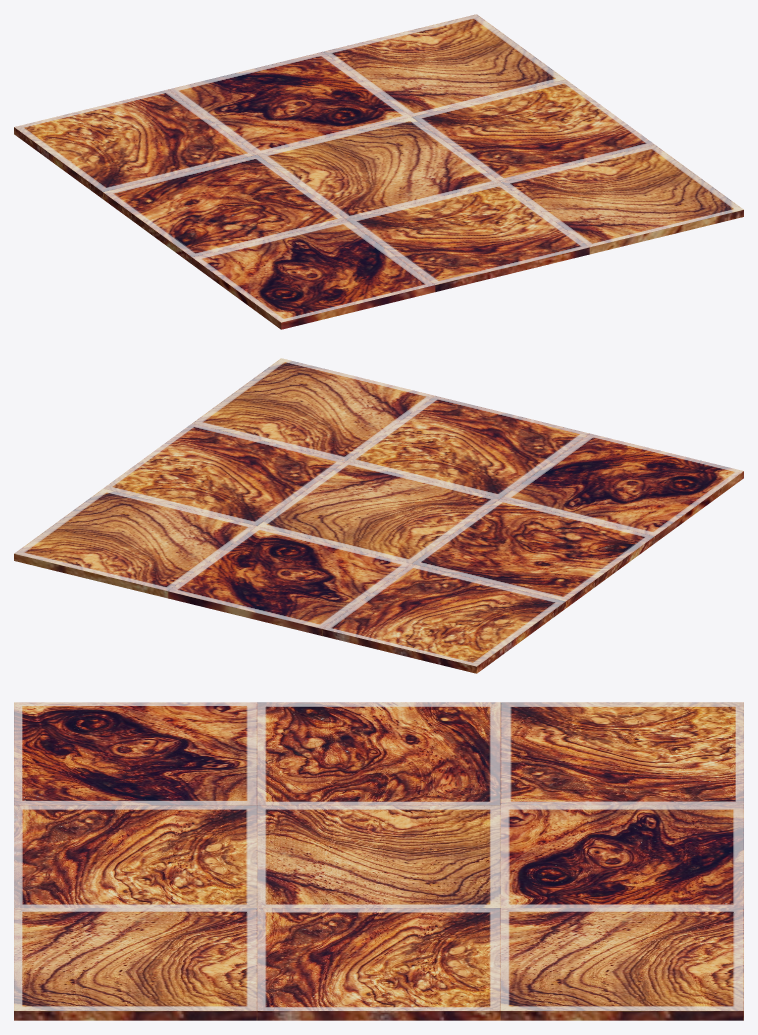
File: board.obj
3 renders of one model, top to bottom at view 1: azimuth 30°, elevation 25°; view 2: azimuth 150°, elevation 25°; view 3: azimuth 270°, elevation 25°, orthographic. The views are drawn at different scales.
Parts seen in each view (by area): view 1: BoardUnit.008, BoardUnit.005, BoardUnit.004, BoardUnit.007, BoardUnit, BoardUnit.006, BoardUnit.002, BoardUnit.001, BoardUnit.003; view 2: BoardUnit, BoardUnit.002, BoardUnit.001, BoardUnit.008, BoardUnit.007, BoardUnit.006, BoardUnit.005, BoardUnit.004, BoardUnit.003; view 3: BoardUnit.004, BoardUnit.003, BoardUnit.001, BoardUnit.007, BoardUnit.008, BoardUnit, BoardUnit.006, BoardUnit.005, BoardUnit.002.
Part boxes in pixels (bbox=[...]): BoardUnit.008: bbox=[192, 220, 435, 329]; BoardUnit.005: bbox=[346, 182, 589, 291]; BoardUnit.004: bbox=[501, 144, 743, 254]; BoardUnit.007: bbox=[103, 154, 345, 263]; BoardUnit: bbox=[14, 89, 256, 198]; BoardUnit.006: bbox=[258, 117, 500, 219]; BoardUnit.002: bbox=[168, 52, 410, 154]; BoardUnit.001: bbox=[323, 14, 565, 116]; BoardUnit.003: bbox=[412, 79, 654, 181]; BoardUnit: bbox=[322, 564, 565, 673]; BoardUnit.002: bbox=[168, 526, 411, 635]; BoardUnit.001: bbox=[14, 488, 256, 598]; BoardUnit.008: bbox=[501, 433, 743, 542]; BoardUnit.007: bbox=[412, 498, 654, 607]; BoardUnit.006: bbox=[257, 461, 499, 563]; BoardUnit.005: bbox=[347, 396, 589, 498]; BoardUnit.004: bbox=[192, 358, 434, 460]; BoardUnit.003: bbox=[103, 423, 345, 525]; BoardUnit.004: bbox=[14, 908, 257, 1020]; BoardUnit.003: bbox=[257, 908, 500, 1020]; BoardUnit.001: bbox=[500, 908, 743, 1020]; BoardUnit.007: bbox=[257, 702, 500, 805]; BoardUnit.008: bbox=[14, 702, 257, 805]; BoardUnit: bbox=[500, 702, 743, 805]; BoardUnit.006: bbox=[257, 805, 500, 907]; BoardUnit.005: bbox=[14, 805, 257, 907]; BoardUnit.002: bbox=[500, 805, 743, 907].
Size of the model in its own units: 6 by 0.0882 by 6.
4 materials, 4 textured.
